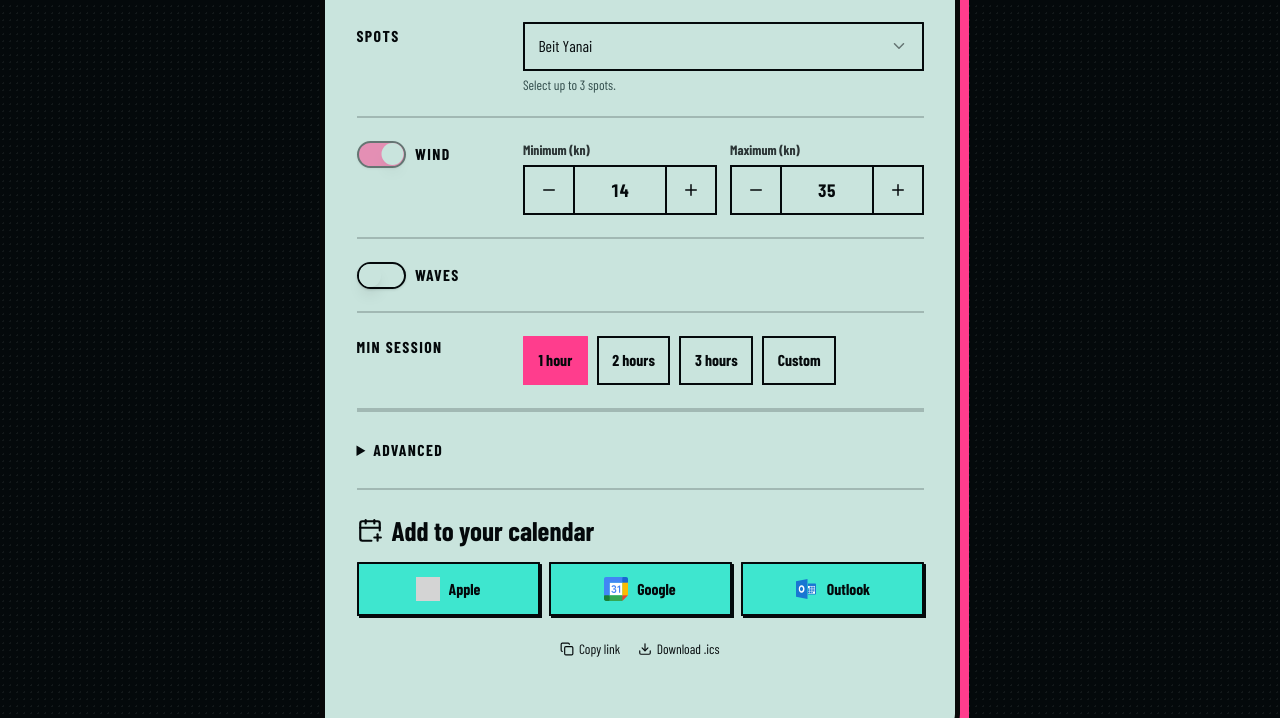
Scenario: App wave height configuration › starts with ICON and one hour, and keeps session edits in the URL, feed and forecast
(page scrolled)
Step 1. Click the button "Custom" → (799, 361), box [762,336,836,385]
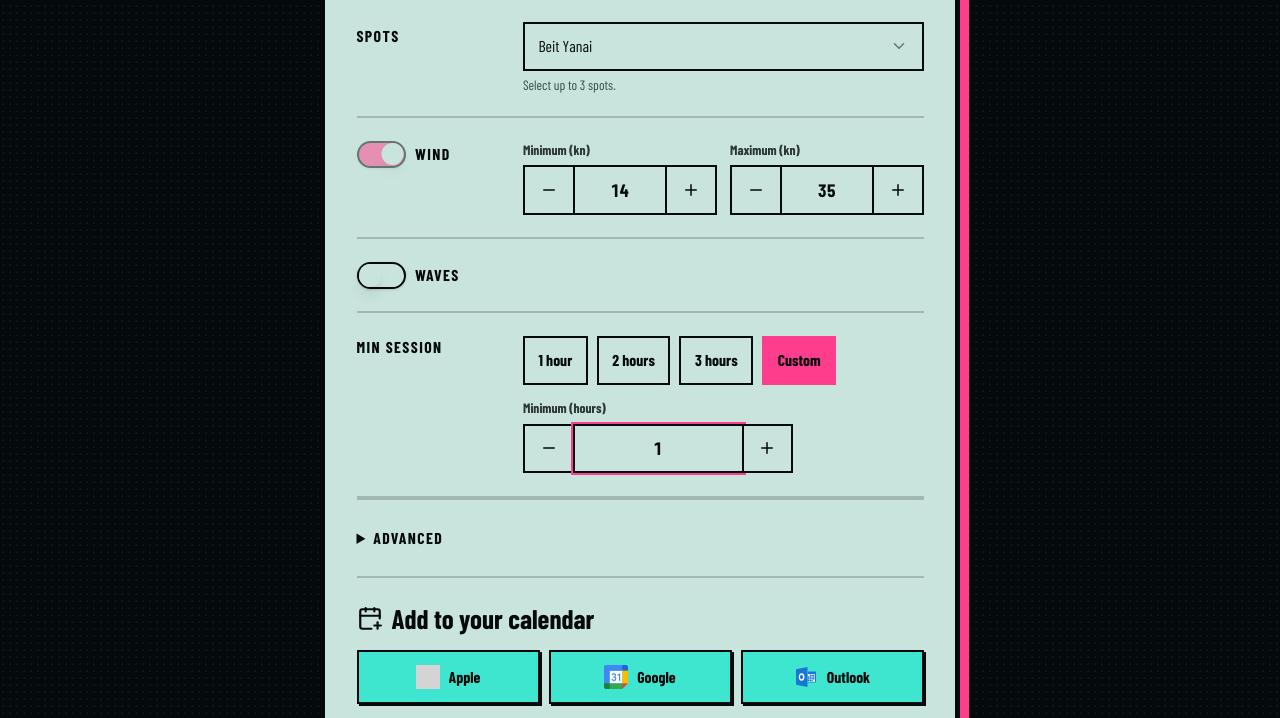
Expected: the field with id "min-session" holds "1"
Step 2. Press ArrowUp in the field with id "min-session", box [572,424,744,473]
Wait 600 ms
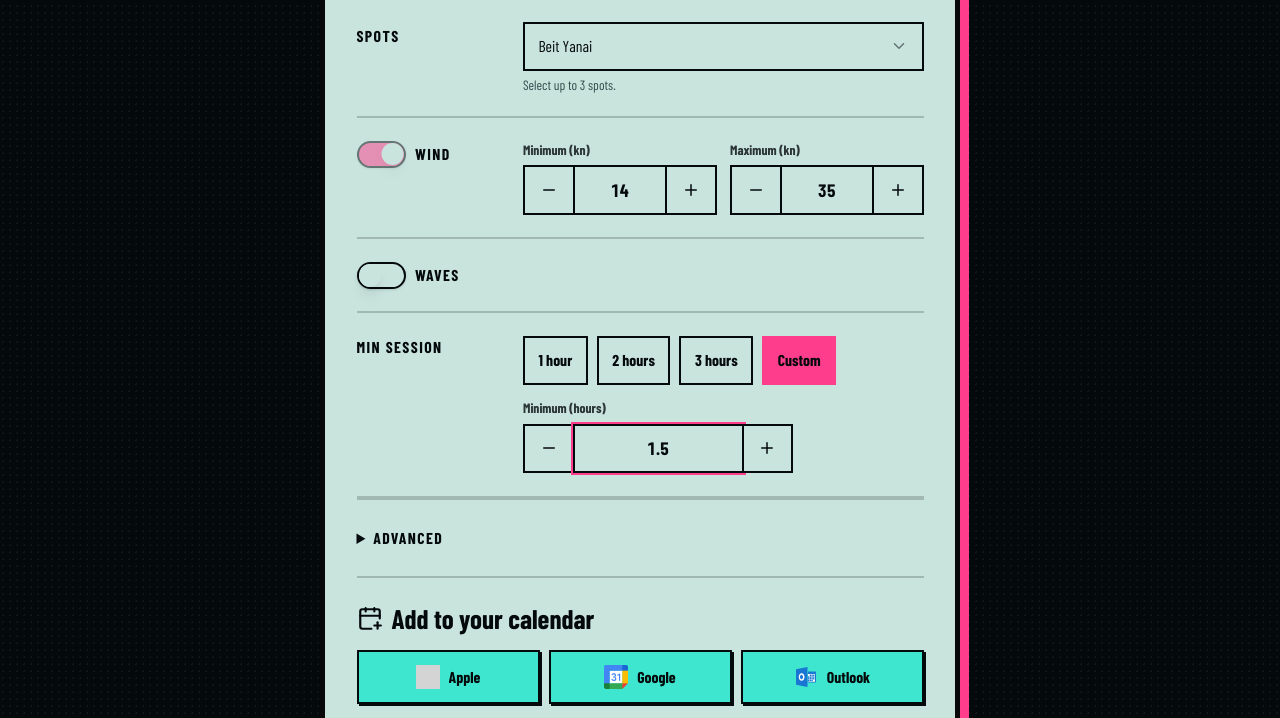
Expected: the field with id "min-session" holds "1.5"
Step 3. Press ArrowUp in the field with id "min-session", box [572,424,744,473]
Wait 600 ms
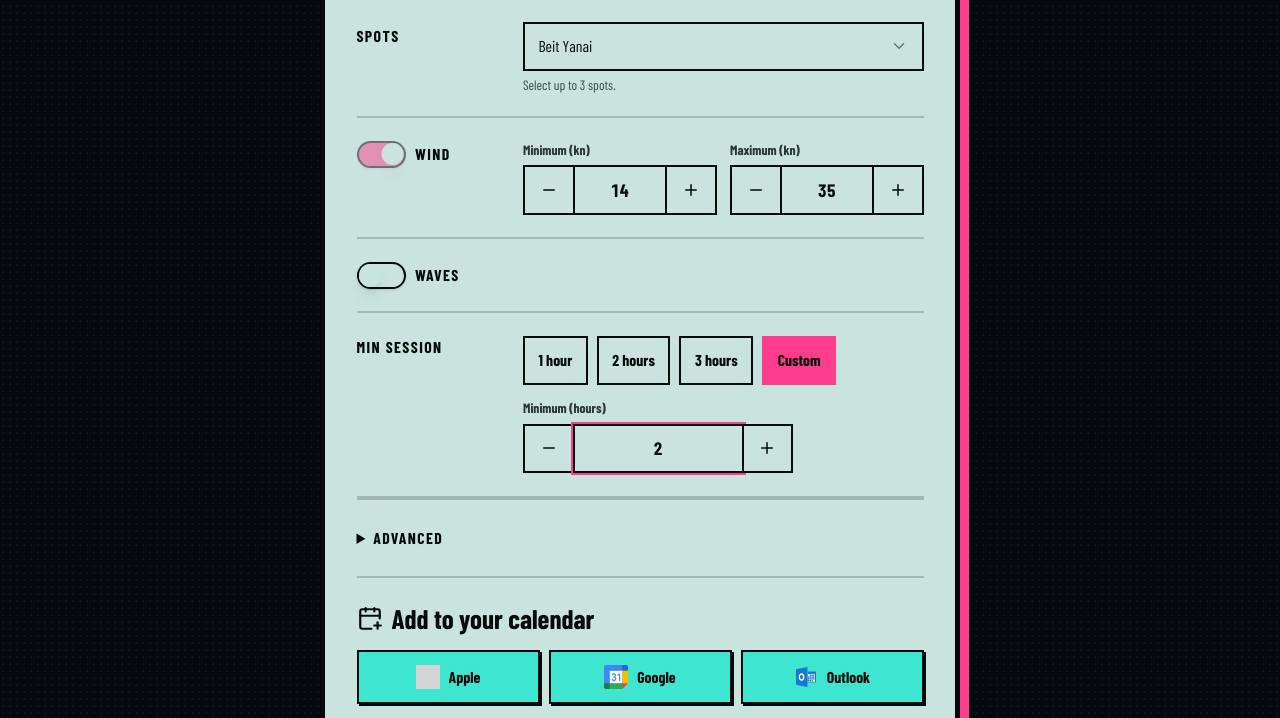
Expected: the field with id "min-session" holds "2", [572,424,744,473]
